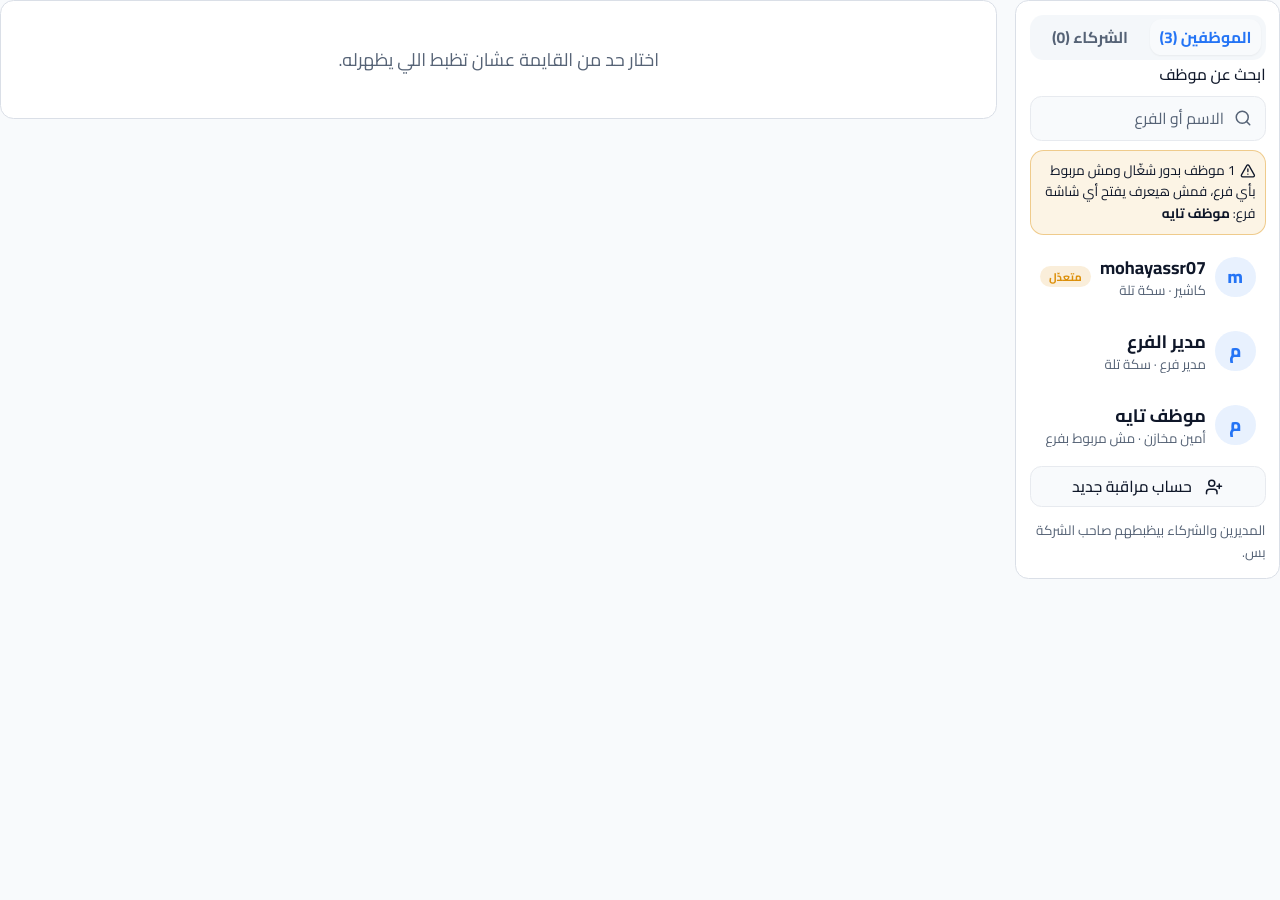
it: Employees permissions screen › «حساب مراقبة جديد» lives in the employees list now
Click the button "حساب مراقبة جديد". click: (1148, 487)
box: x1=1030 y1=466 x2=1266 y2=507
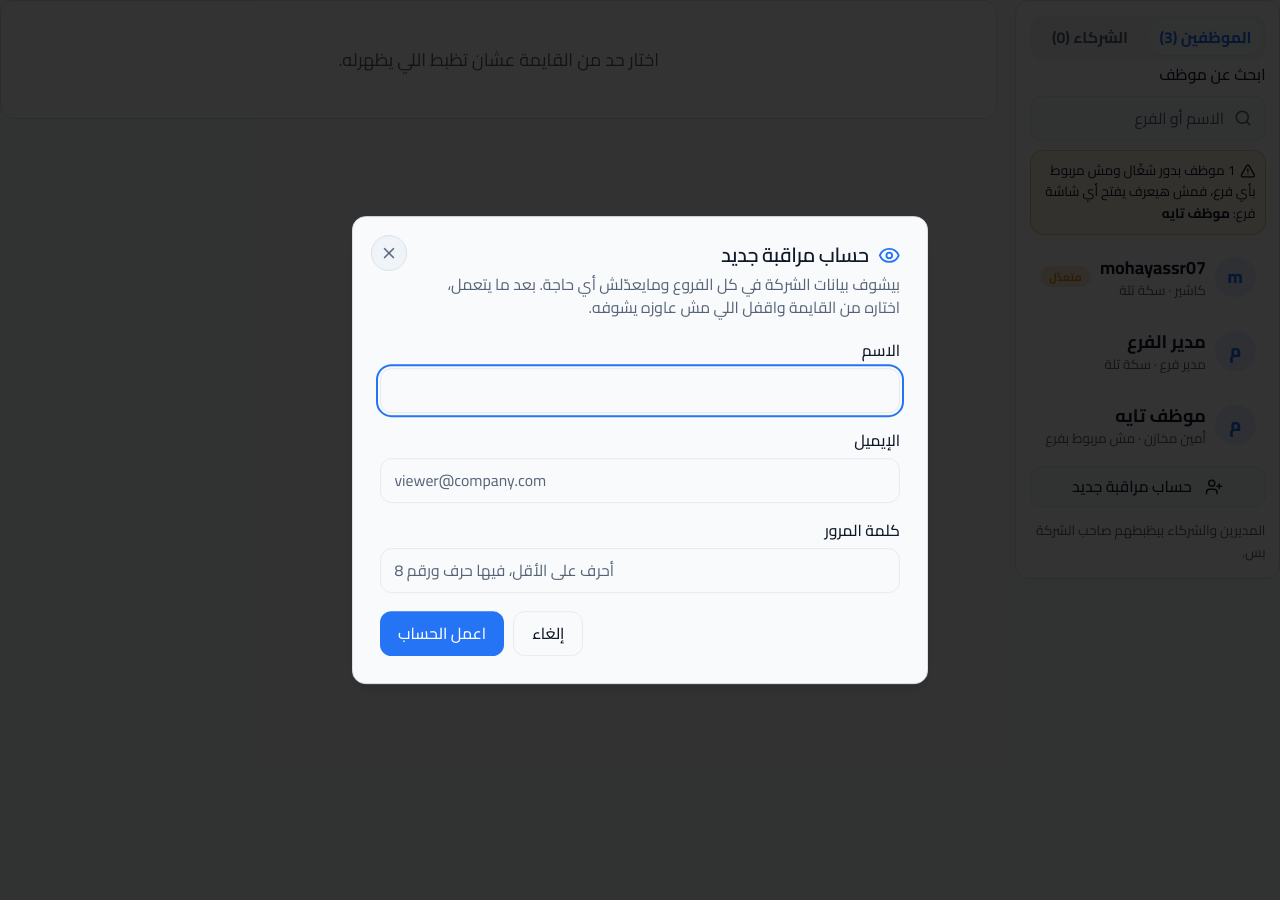
Result: the field labelled "الإيميل" is shown at x1=380 y1=458 x2=900 y2=503
